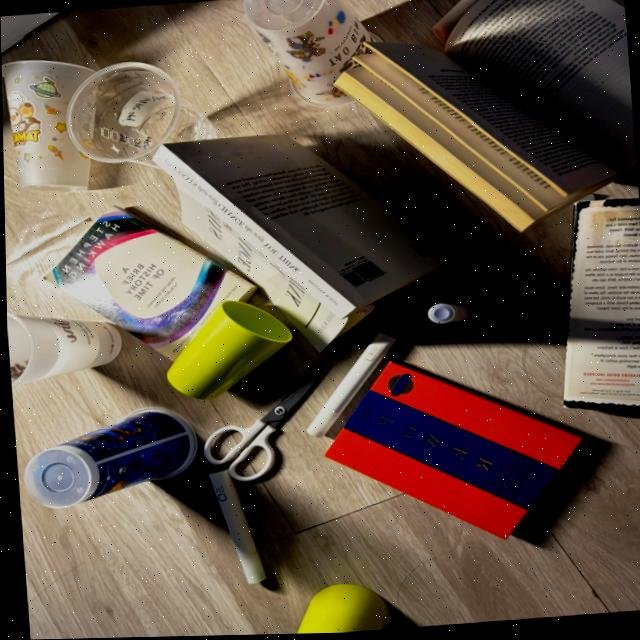Book: (153, 137, 448, 351), (323, 364, 580, 541), (362, 45, 627, 198), (438, 0, 629, 178), (351, 57, 569, 212), (329, 73, 531, 233), (44, 211, 255, 361), (562, 202, 640, 415)
HighLight Pen: (305, 334, 395, 438), (208, 471, 264, 585), (434, 0, 483, 41), (427, 306, 469, 326)
Plastic Cup: (23, 409, 195, 508), (243, 0, 374, 108), (1, 60, 94, 191), (67, 68, 173, 163), (5, 312, 120, 388), (142, 80, 215, 166)
Scissors: (199, 360, 322, 482)
WaterGlass: (165, 301, 291, 400), (295, 586, 389, 635)
